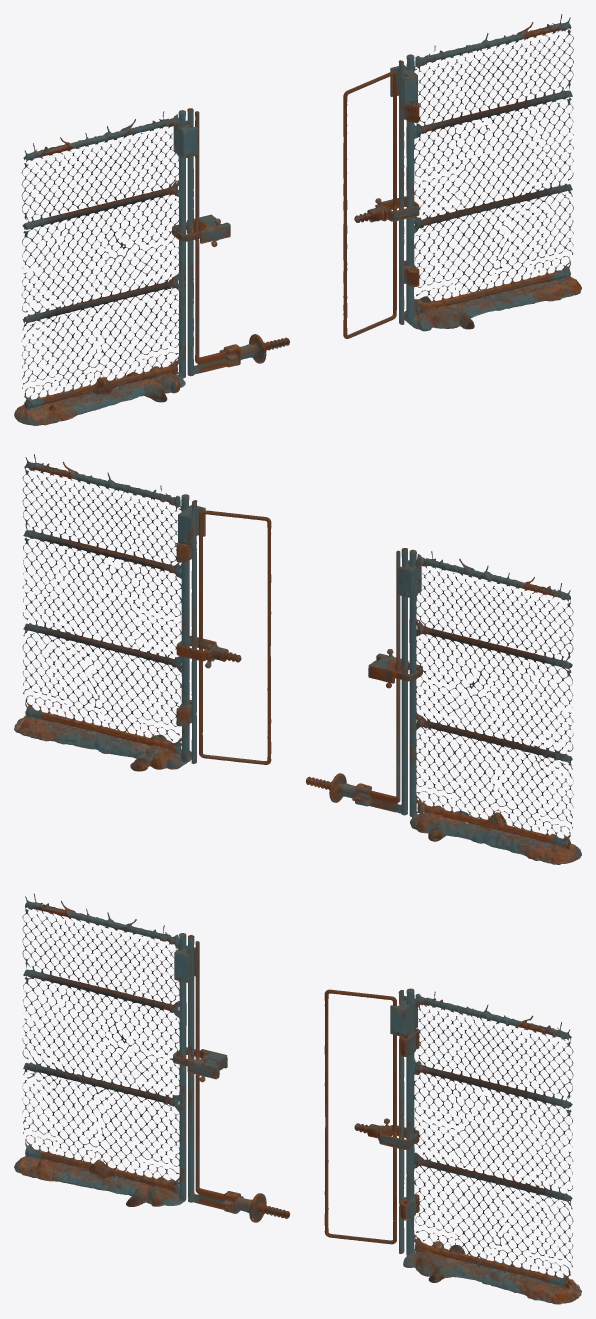
The model's file is prison_fence_gate.glb.
3 renders of one model, top to bottom at view 1: azimuth 30°, elevation 25°; view 2: azimuth 150°, elevation 25°; view 3: azimuth 330°, elevation 25°, orthographic.
Bounding box in the file's own units: 1.9 × 0.8853 × 0.2351.
Materials: 1 (1 with a texture image).
